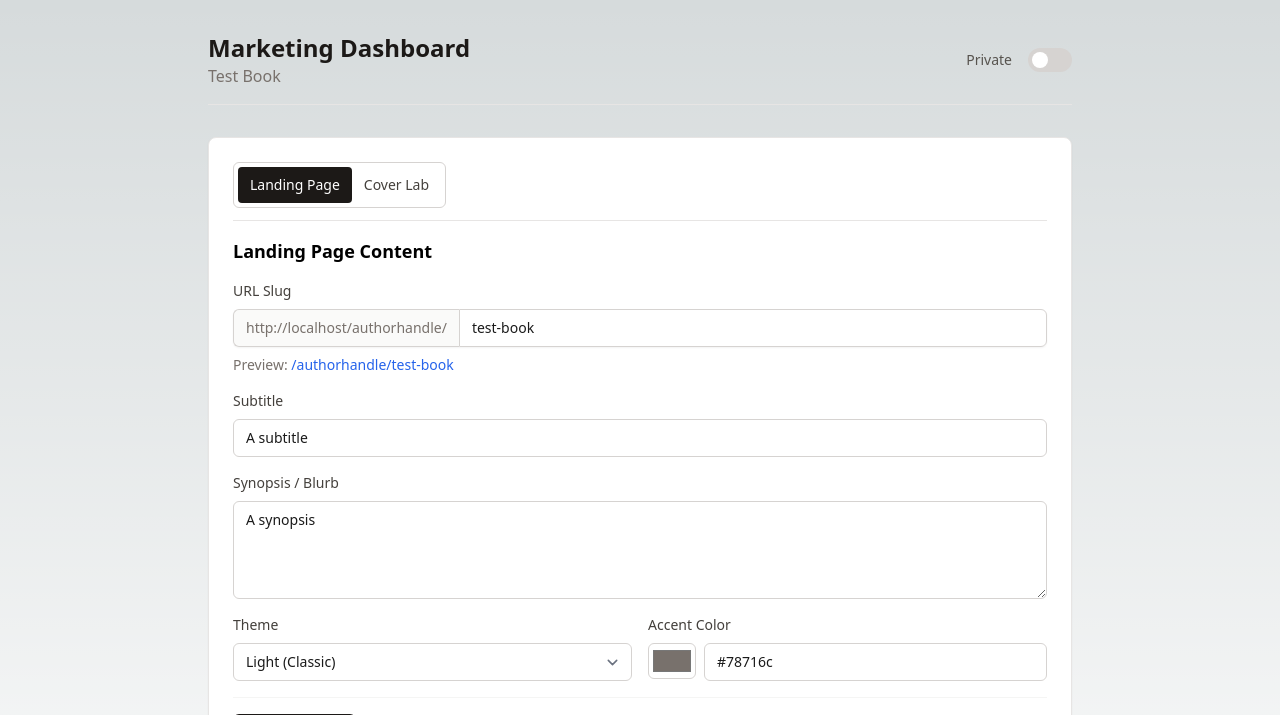
Test: MarketingDashboard › toggles public visibility
Expected: the text "Private" is shown, x1=966 y1=50 x2=1012 y2=70
Click the button named "toggle public visibility" at (1050, 60), box x1=1028 y1=48 x2=1072 y2=72
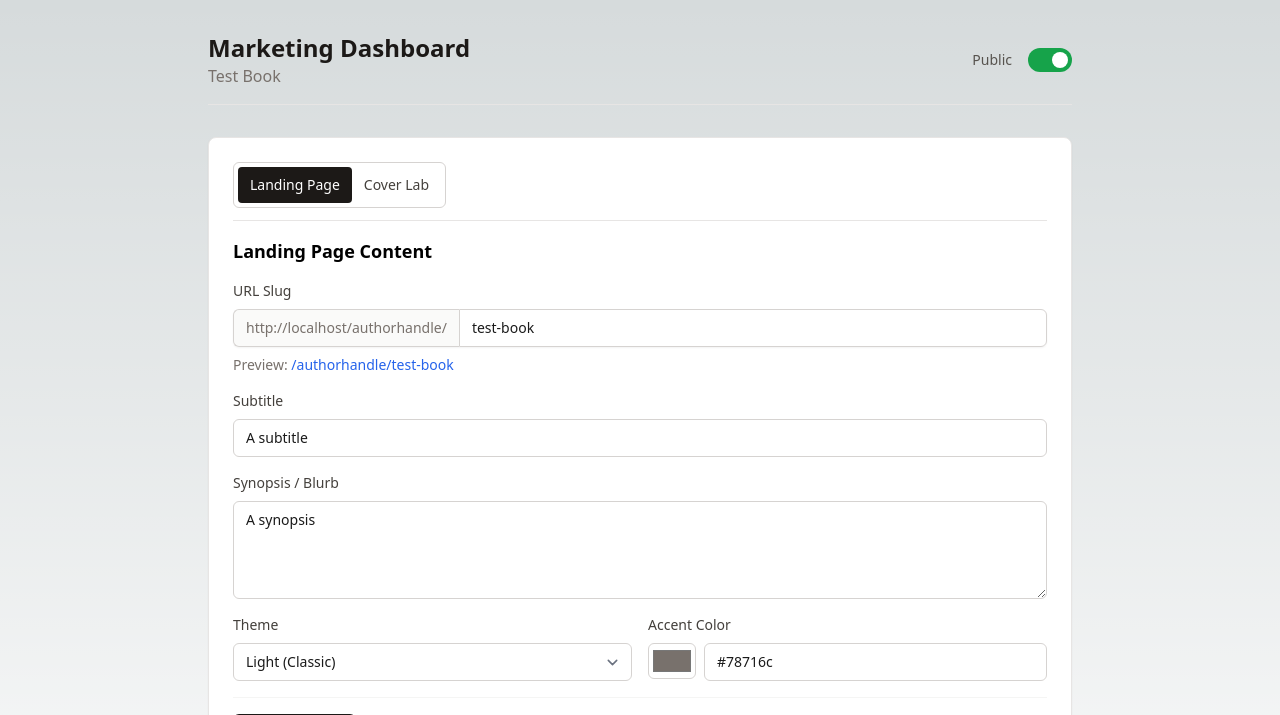
Expected: the text "Public" is shown, x1=972 y1=50 x2=1012 y2=70
